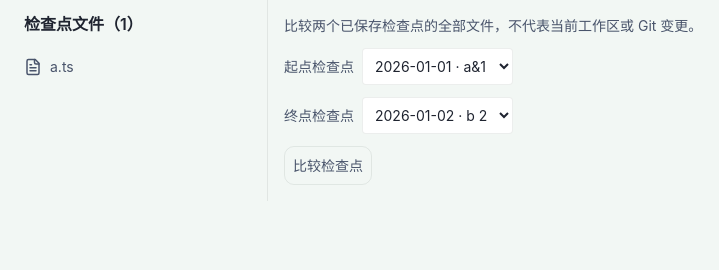
compares real selected checkpoints with the current session identity only after a click
Click the button "比较检查点".
click(328, 166)  # box [284,146,372,185]
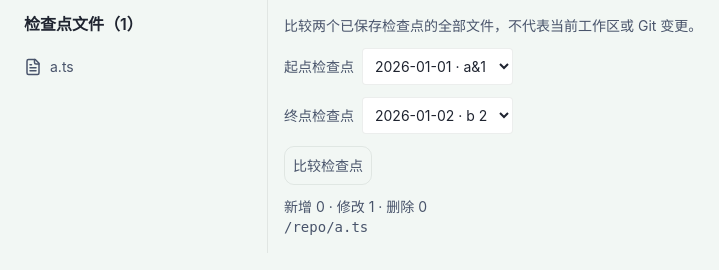
Expected: the text "比较两个已保存检查点的全部文件，不代表当前工作区或 Git 变更。" is shown, [284,17,702,34]
Expected: the text "新增 0 · 修改 1 · 删除 0" is shown, [284,198,427,215]
